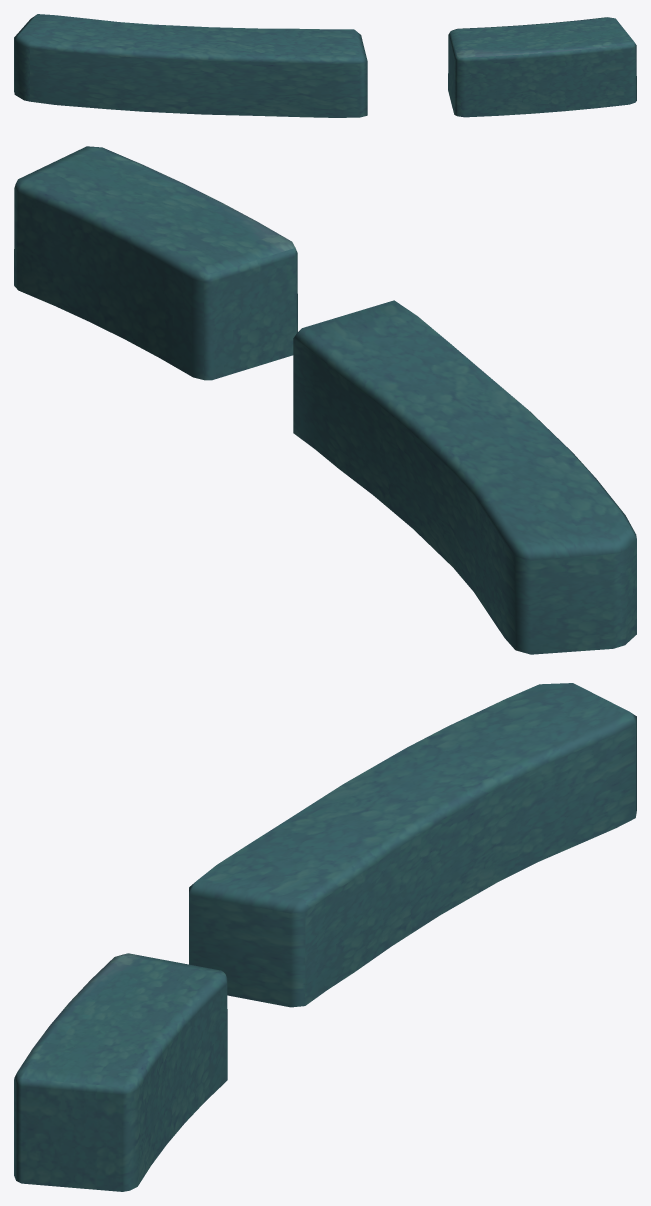
The model's file is pref_sm_beach_winter_techgrassny01b_beta_lv3.fbx.
3 renders of one model, top to bottom at view 1: azimuth 30°, elevation 25°; view 2: azimuth 150°, elevation 25°; view 3: azimuth 270°, elevation 25°, orthographic. The views are drawn at different scales.
Visible parts, largest first — view 1: pref_sm_beach_winter_techgrassny01b_beta_lv3; view 2: pref_sm_beach_winter_techgrassny01b_beta_lv3; view 3: pref_sm_beach_winter_techgrassny01b_beta_lv3.
Boxes of the visible parts, x1,y1,x2,y2 form: pref_sm_beach_winter_techgrassny01b_beta_lv3: [14, 14, 636, 117]; pref_sm_beach_winter_techgrassny01b_beta_lv3: [14, 146, 636, 654]; pref_sm_beach_winter_techgrassny01b_beta_lv3: [14, 683, 636, 1191].
Bounding box in the file's own units: 11.7 × 1.48 × 7.62.
